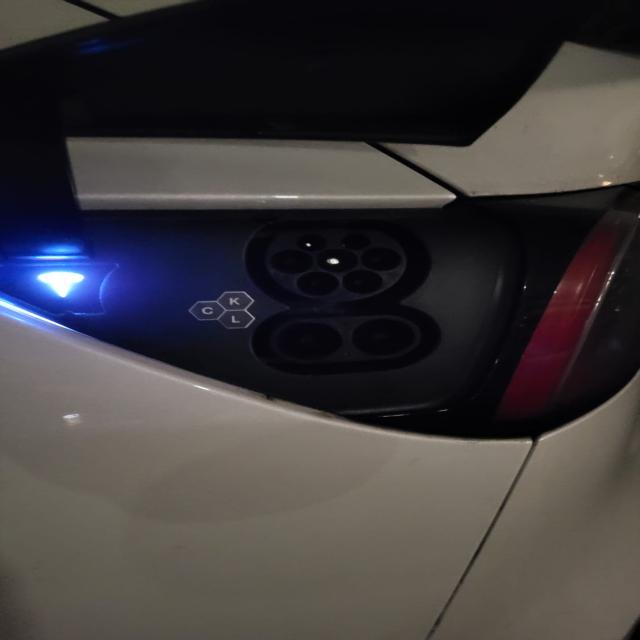inlet: (266, 229, 406, 301)
inlet-above-left: (296, 234, 327, 251)
inlet-above-right: (341, 233, 372, 251)
inlet-below-left: (296, 271, 339, 295)
inlet-below-right: (342, 270, 383, 294)
inlet-circle: (316, 248, 358, 272)
inlet-circle-left: (270, 250, 313, 274)
inlet-circle-right: (360, 247, 401, 271)
inlet-minus: (351, 318, 416, 356)
inlet-plus: (276, 322, 342, 360)
